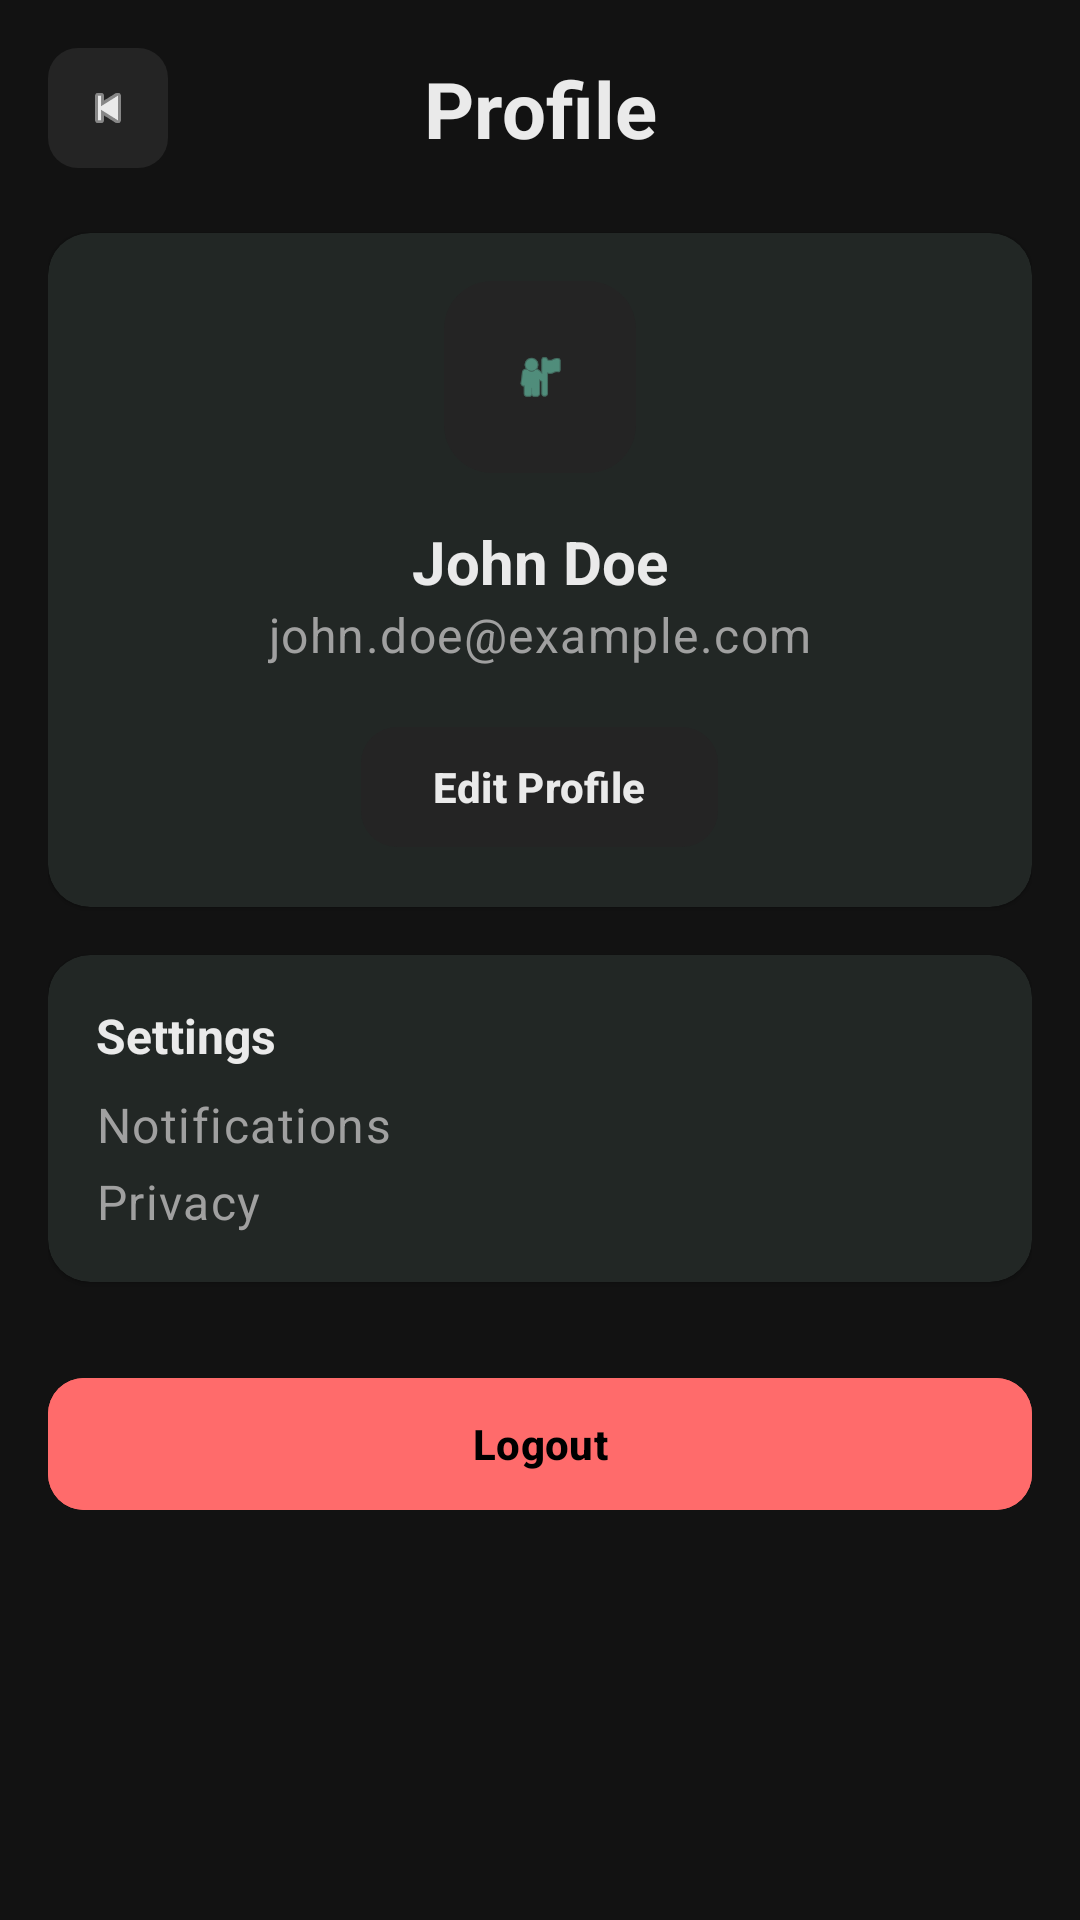

Screen size 1080 x 1920. Icon name, then its box in pixels as [x1, y1, x2, y2]:
myplaces: [520, 357, 561, 397]
previous: [95, 93, 121, 123]
